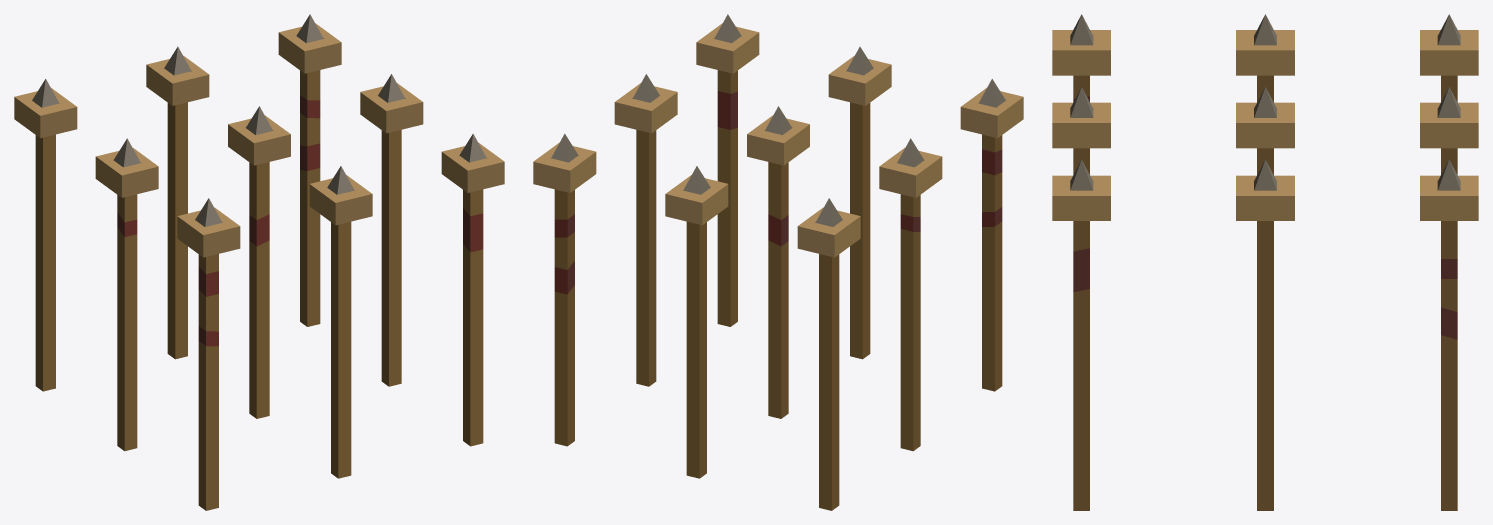
The model's file is ST_Prop_Trap_Spikes_01.fbx.
The picture shows the model from 3 angles, left to right: view 1: azimuth 30°, elevation 25°; view 2: azimuth 150°, elevation 25°; view 3: azimuth 270°, elevation 25°; orthographic projection. The views are drawn at different scales.
Parts seen in each view (by area): view 1: ST_Prop_Trap_Spikes_Attachment_01, ST_Prop_Trap_Spikes_01; view 2: ST_Prop_Trap_Spikes_Attachment_01, ST_Prop_Trap_Spikes_01; view 3: ST_Prop_Trap_Spikes_01, ST_Prop_Trap_Spikes_Attachment_01.
Boxes of the visible parts, box(x1,y1,x2,y2) form: ST_Prop_Trap_Spikes_Attachment_01: box(32, 14, 486, 510); ST_Prop_Trap_Spikes_01: box(14, 23, 504, 257); ST_Prop_Trap_Spikes_Attachment_01: box(551, 14, 1005, 510); ST_Prop_Trap_Spikes_01: box(533, 23, 1023, 257); ST_Prop_Trap_Spikes_01: box(1052, 30, 1478, 220); ST_Prop_Trap_Spikes_Attachment_01: box(1070, 14, 1460, 510).
Bounding box in the file's own units: 3.62 × 3.55 × 3.94.
